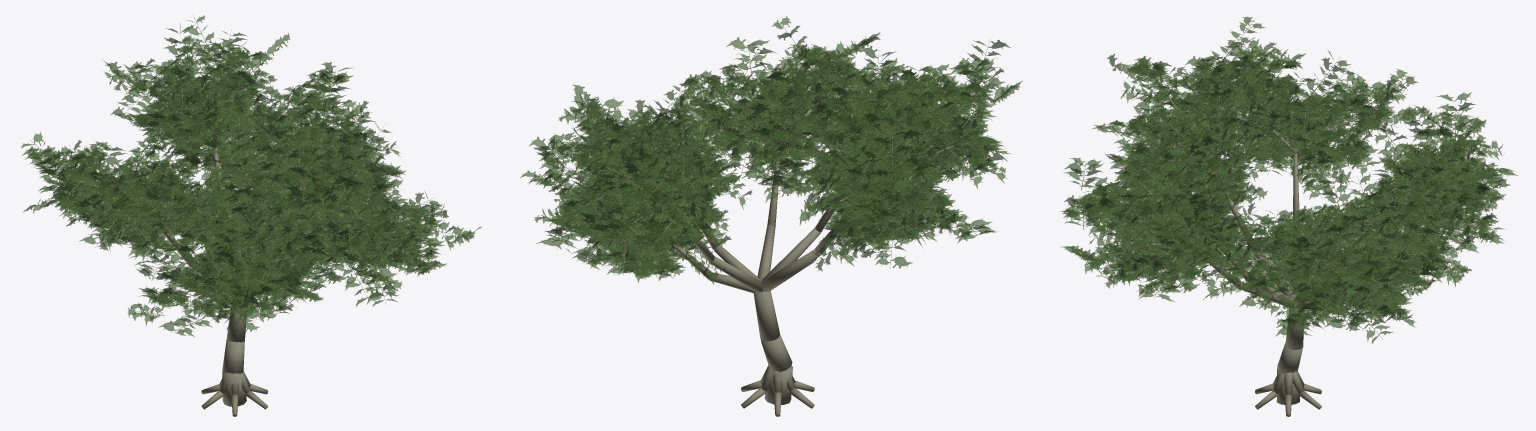
File: rain_tree.glb
3 renders of one model, left to right at view 1: azimuth 30°, elevation 25°; view 2: azimuth 150°, elevation 25°; view 3: azimuth 270°, elevation 25°, orthographic. The views are drawn at different scales.
Parts seen in each view (by area): view 1: rain_tree; view 2: rain_tree; view 3: rain_tree.
Part boxes in pixels (x1,y1,x2,y2): rain_tree: (21,15,481,416); rain_tree: (520,16,1022,416); rain_tree: (1060,16,1518,416).
Bounding box in the file's own units: 12.1 × 9.11 × 12.55.
Materials: 2 (1 with a texture image).
